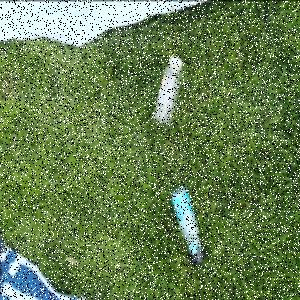Plastic-bottle: (171, 185, 207, 265), (153, 56, 184, 127)
